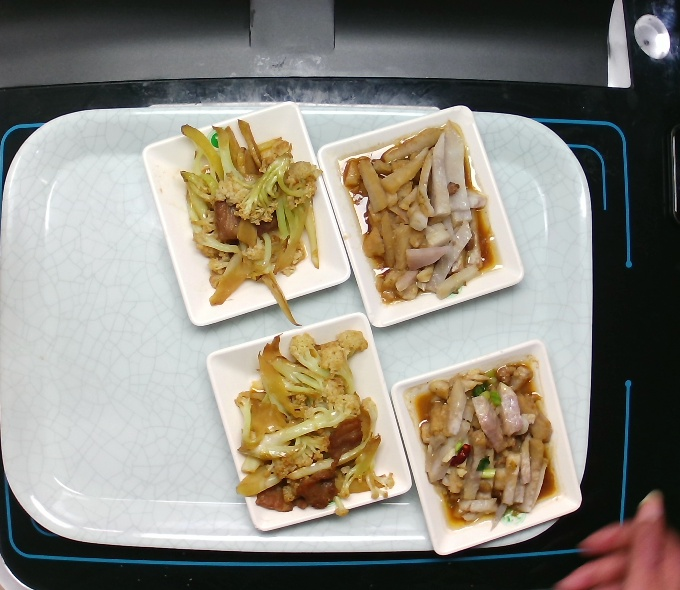wcq-QiuCaiChaoRou: (222, 327, 398, 528), (171, 112, 332, 325)
wcq-YuTou: (339, 121, 505, 313), (410, 357, 560, 533)
